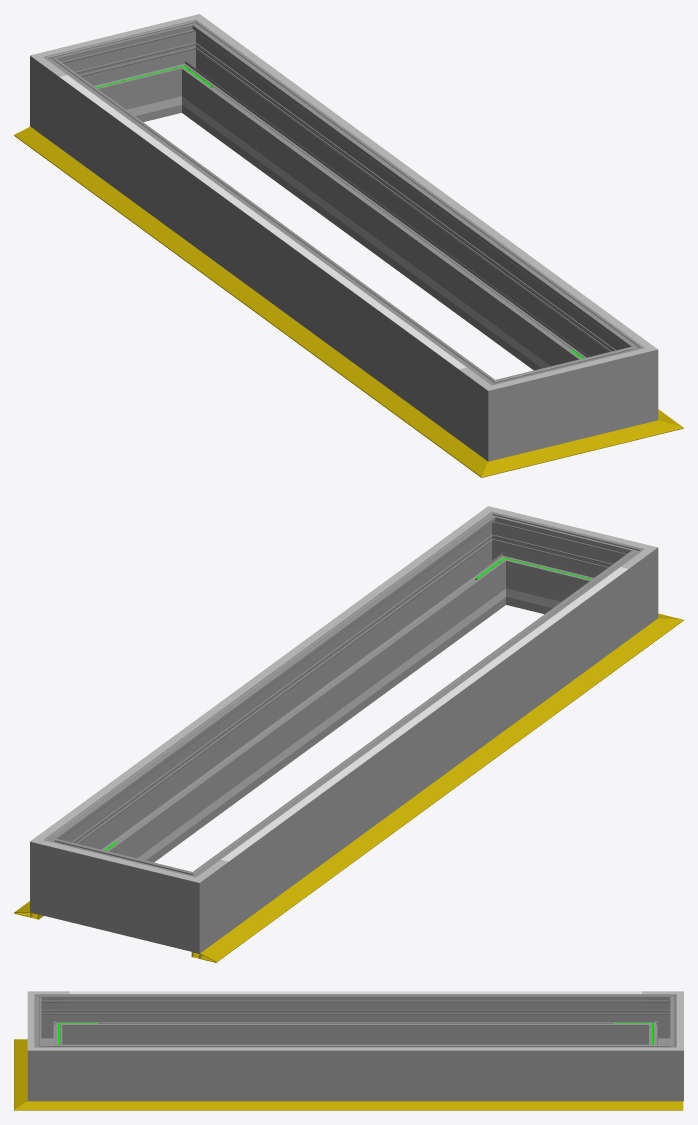
3 renders of one model, top to bottom at view 1: azimuth 30°, elevation 25°; view 2: azimuth 150°, elevation 25°; view 3: azimuth 270°, elevation 25°, orthographic. The views are drawn at different scales.
Parts seen in each view (by area): view 1: 3DGeom-297, 3DGeom-268, 3DGeom-38, 3DGeom-270, 3DGeom-298, 3DGeom-276, 3DGeom-290, 3DGeom-284, 3DGeom-313, 3DGeom-303, 3DGeom-237, 3DGeom-278 (+4 smaller); view 2: 3DGeom-297, 3DGeom-268, 3DGeom-38, 3DGeom-278, 3DGeom-276, 3DGeom-298, 3DGeom-284, 3DGeom-290, 3DGeom-313, 3DGeom-303, 3DGeom-270, 3DGeom-237 (+1 smaller); view 3: 3DGeom-297, 3DGeom-268, 3DGeom-30, 3DGeom-290, 3DGeom-284, 3DGeom-303, 3DGeom-313, 3DGeom-270, 3DGeom-278, 3DGeom-33, 3DGeom-28, 3DGeom-298 (+6 smaller).
Part boxes in pixels (box(x1,y1,x2,y2)): 3DGeom-297: box(186, 37, 627, 370); 3DGeom-268: box(59, 73, 475, 439); 3DGeom-38: box(14, 126, 467, 455); 3DGeom-270: box(459, 365, 538, 461); 3DGeom-298: box(529, 355, 607, 449); 3DGeom-276: box(85, 26, 173, 121); 3DGeom-290: box(598, 329, 658, 432); 3DGeom-284: box(154, 14, 227, 115); 3DGeom-313: box(60, 75, 466, 369); 3DGeom-303: box(221, 35, 628, 329); 3DGeom-237: box(210, 117, 550, 368); 3DGeom-278: box(30, 43, 104, 146); 3DGeom-297: box(67, 529, 501, 862); 3DGeom-268: box(212, 565, 628, 931); 3DGeom-38: box(191, 633, 654, 962); 3DGeom-278: box(149, 857, 228, 953); 3DGeom-276: box(80, 847, 158, 941); 3DGeom-298: box(514, 518, 607, 614); 3DGeom-284: box(30, 820, 89, 924); 3DGeom-290: box(460, 506, 537, 607); 3DGeom-313: box(221, 567, 627, 861); 3DGeom-303: box(59, 527, 466, 821); 3DGeom-270: box(583, 535, 658, 639); 3DGeom-237: box(137, 609, 477, 860); 3DGeom-297: box(69, 1044, 641, 1101); 3DGeom-268: box(69, 994, 641, 1044); 3DGeom-30: box(56, 1101, 683, 1110); 3DGeom-290: box(27, 1033, 69, 1101); 3DGeom-284: box(642, 1033, 683, 1101); 3DGeom-303: box(69, 1047, 641, 1050); 3DGeom-313: box(69, 991, 641, 993); 3DGeom-270: box(34, 994, 69, 1044); 3DGeom-278: box(642, 994, 676, 1044); 3DGeom-33: box(14, 1089, 55, 1110); 3DGeom-28: box(14, 1054, 27, 1092); 3DGeom-298: box(34, 1009, 62, 1044).
Bounding box in the file's own units: 0.6096 × 0.2195 × 2.44.
